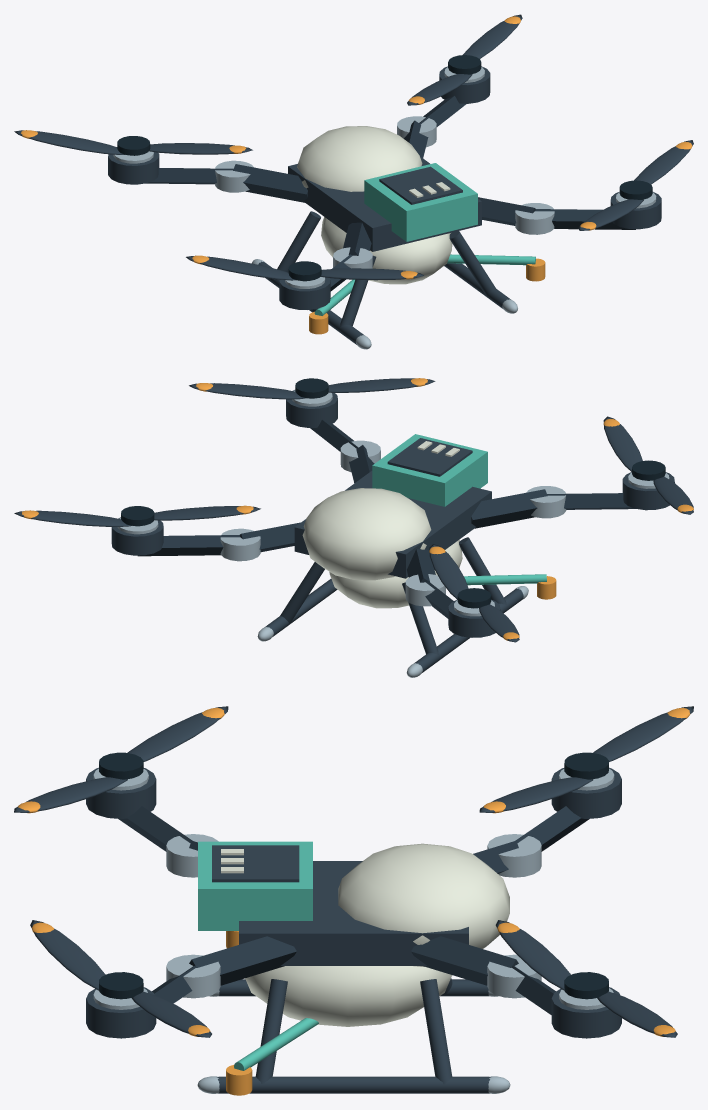
Rendered from dji-agras-t70p.glb.
3 views of the same model, one above another, from view 1: azimuth 30°, elevation 25°; view 2: azimuth 150°, elevation 25°; view 3: azimuth 270°, elevation 25° (orthographic). The views are drawn at different scales.
Parts seen in each view (by area): view 1: part-frame-1, part-battery-10, part-payload-12, part-landing-gear-11, part-propeller-7, part-propeller-3, part-propeller-5, part-propeller-9, part-motor-2, part-motor-6, part-motor-8, part-motor-4; view 2: part-frame-1, part-battery-10, part-landing-gear-11, part-payload-12, part-propeller-9, part-propeller-5, part-propeller-3, part-propeller-7, part-motor-4, part-motor-8, part-motor-2, part-motor-6; view 3: part-frame-1, part-payload-12, part-battery-10, part-landing-gear-11, part-propeller-3, part-propeller-7, part-propeller-9, part-propeller-5, part-motor-4, part-motor-8, part-motor-6, part-motor-2.
Part boxes in pixels (<box>): part-frame-1: <box>145,95,635,291</box>; part-battery-10: <box>364,163,477,241</box>; part-payload-12: <box>309,217,545,334</box>; part-landing-gear-11: <box>252,211,517,349</box>; part-propeller-7: <box>186,255,423,281</box>; part-propeller-3: <box>14,130,252,155</box>; part-propeller-5: <box>407,14,522,105</box>; part-propeller-9: <box>578,140,693,230</box>; part-motor-2: <box>108,151,159,184</box>; part-motor-6: <box>279,277,330,309</box>; part-motor-8: <box>610,192,661,229</box>; part-motor-4: <box>439,66,490,103</box>; part-frame-1: <box>138,419,635,618</box>; part-battery-10: <box>372,434,487,506</box>; part-landing-gear-11: <box>257,537,528,677</box>; part-payload-12: <box>329,540,556,608</box>; part-propeller-9: <box>189,378,435,399</box>; part-propeller-5: <box>14,505,260,526</box>; part-propeller-3: <box>429,544,519,642</box>; part-propeller-7: <box>603,416,693,514</box>; part-motor-4: <box>111,517,163,555</box>; part-motor-8: <box>286,390,337,427</box>; part-motor-2: <box>448,599,500,637</box>; part-motor-6: <box>622,472,674,510</box>; part-frame-1: <box>118,806,589,1014</box>; part-payload-12: <box>226,931,452,1095</box>; part-battery-10: <box>198,841,312,930</box>; part-landing-gear-11: <box>197,978,510,1093</box>; part-propeller-3: <box>479,706,693,813</box>; part-propeller-7: <box>14,706,228,813</box>; part-propeller-9: <box>30,920,211,1037</box>; part-propeller-5: <box>495,920,677,1037</box>; part-motor-4: <box>551,987,621,1038</box>; part-motor-8: <box>86,987,156,1038</box>; part-motor-6: <box>86,767,156,818</box>; part-motor-2: <box>551,767,621,818</box>.
Size of the model in its own units: 5.26 by 1.4 by 4.56.
